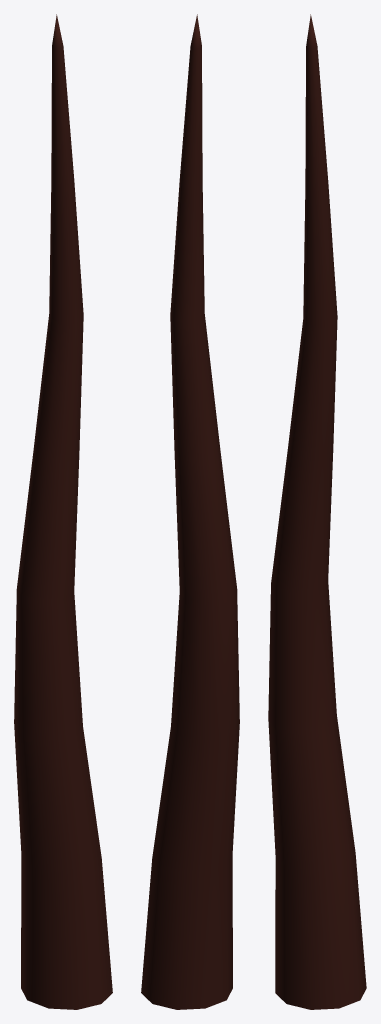
The model's file is Tentacle.fbx.
3 views of the same model, side by side, from view 1: azimuth 30°, elevation 25°; view 2: azimuth 150°, elevation 25°; view 3: azimuth 330°, elevation 25° (orthographic).
Parts seen in each view (by area): view 1: Cone; view 2: Cone; view 3: Cone.
Boxes of the visible parts, <box> form: Cone: <box>14,14,112,1009</box>; Cone: <box>141,14,239,1009</box>; Cone: <box>268,14,366,1009</box>.
Bounding box in the file's own units: 17 × 181 × 15.
